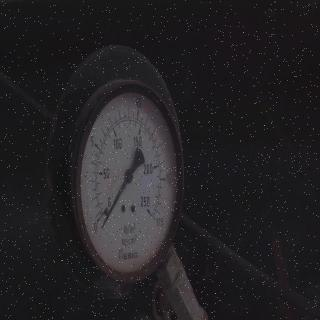gauge: (68, 86, 192, 280), (136, 201, 166, 227), (90, 208, 116, 235), (122, 169, 136, 185), (97, 221, 107, 231)
